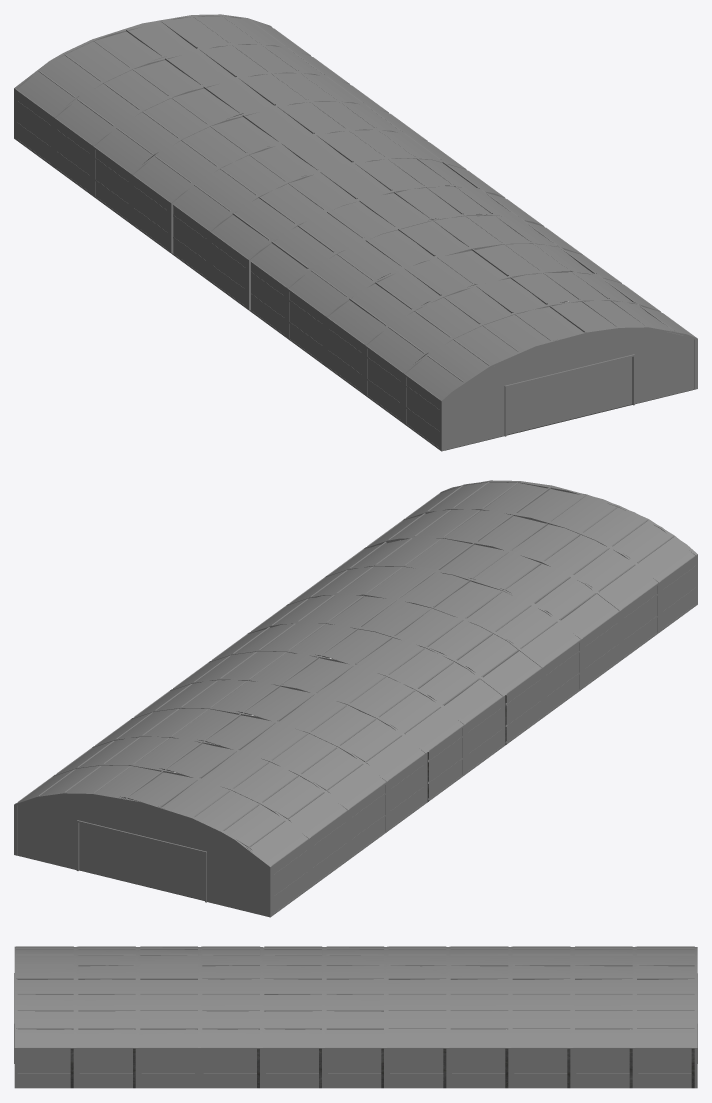
Rendered from warehouse.lod1.glb.
3 renders of one model, top to bottom at view 1: azimuth 30°, elevation 25°; view 2: azimuth 150°, elevation 25°; view 3: azimuth 270°, elevation 25°, orthographic. The views are drawn at different scales.
Visible parts, largest first — view 1: NurbsPath.005_Metal_0; view 2: NurbsPath.005_Metal_0; view 3: NurbsPath.005_Metal_0, NurbsPath.005_WetConcrete_0.
Boxes of the visible parts, x1,y1,x2,y2 form: NurbsPath.005_Metal_0: (14,14,697,451); NurbsPath.005_Metal_0: (14,480,697,917); NurbsPath.005_Metal_0: (14,946,697,1088); NurbsPath.005_WetConcrete_0: (70,1048,694,1088).
Size of the model in its own units: 16 by 5.02 by 46.27.
3 materials, 1 textured.
